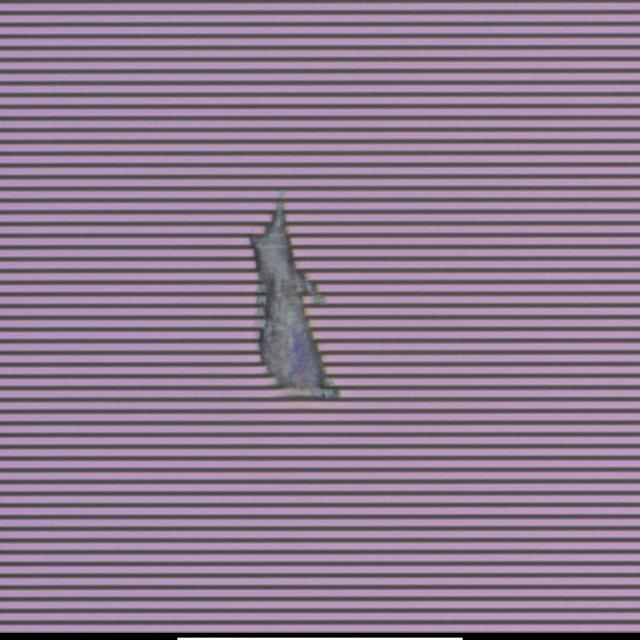03_intrusion: (243, 195, 338, 415)
